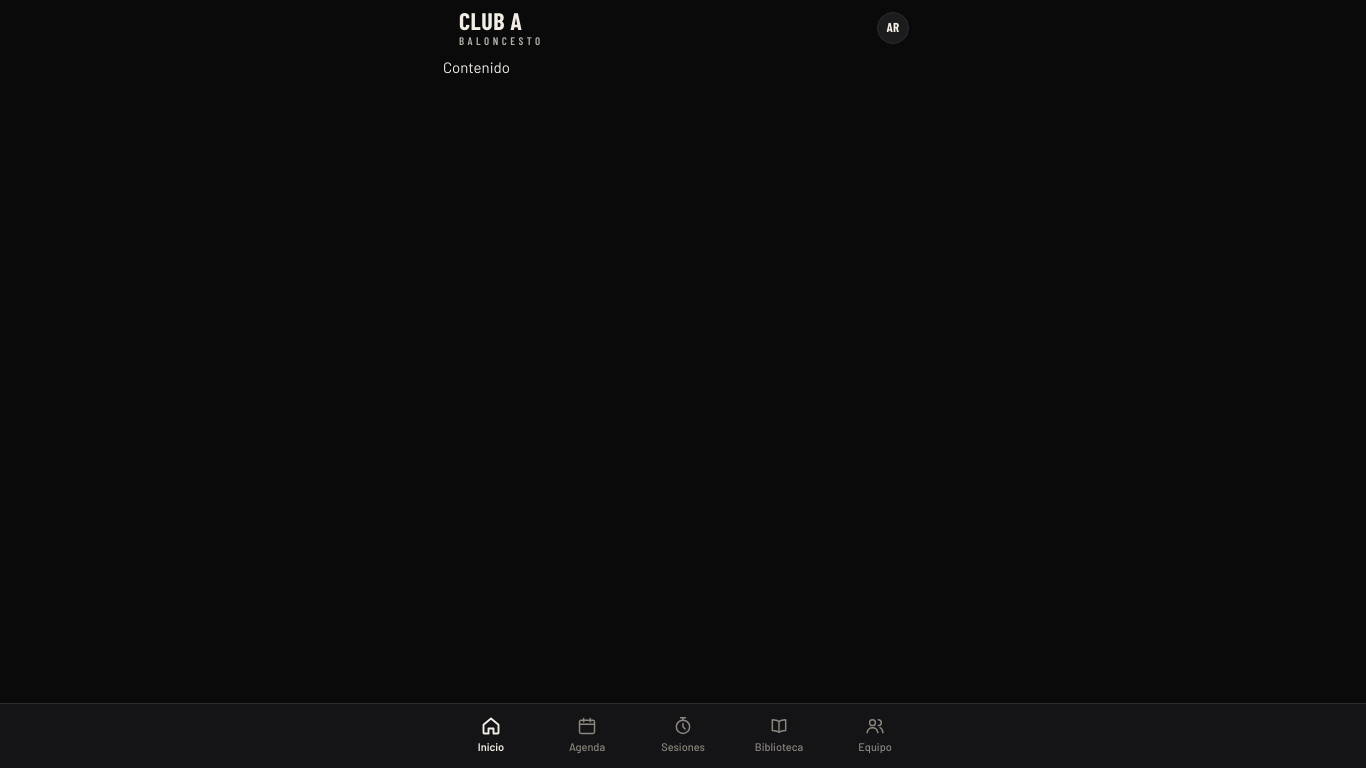
Test: layout de la app móvil del club › dirección ve Gestión en el menú de cuenta, con el enlace del club
The width and height of the screenshot is (1366, 768).
Click the button with aria-label "Abrir menú de cuenta". click: [893, 28]
box: [871, 6, 915, 50]
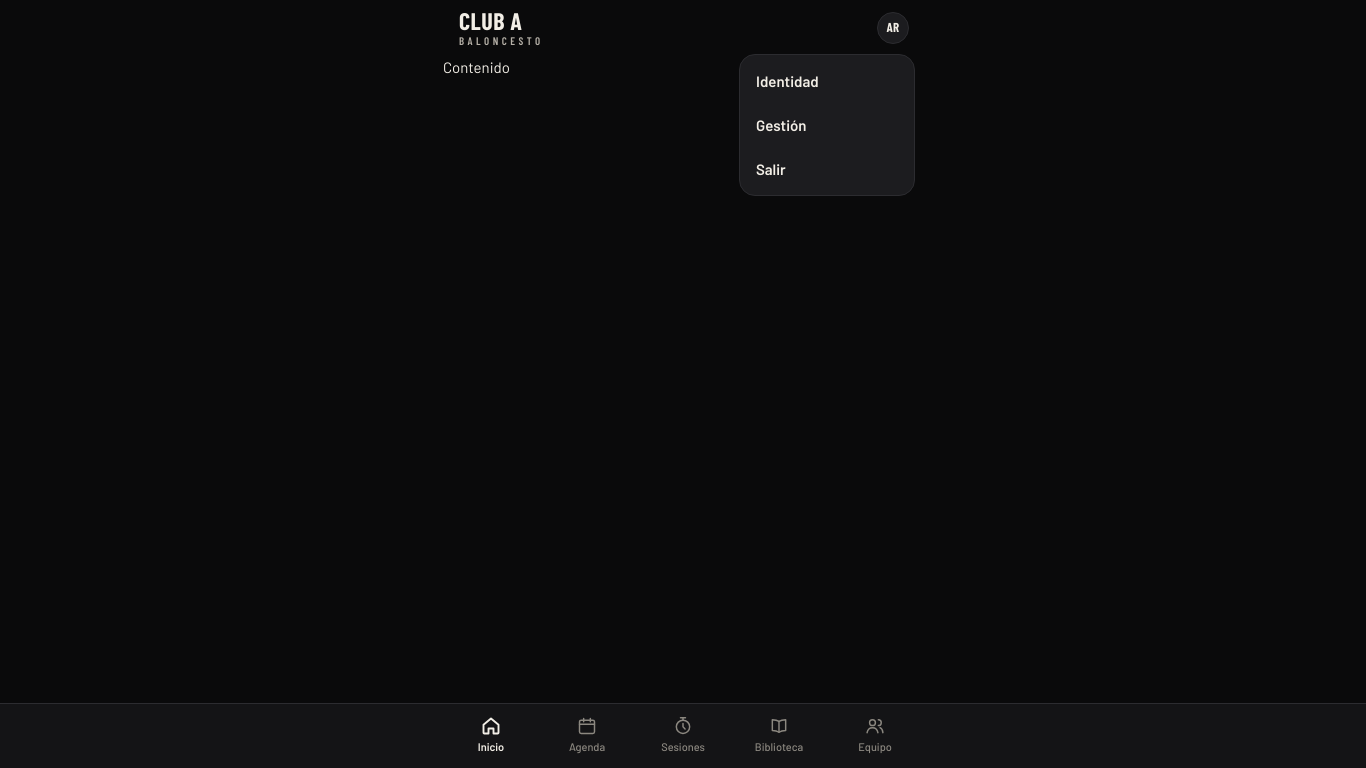
Expected: the button "Salir" is shown, [740, 146, 914, 190]
